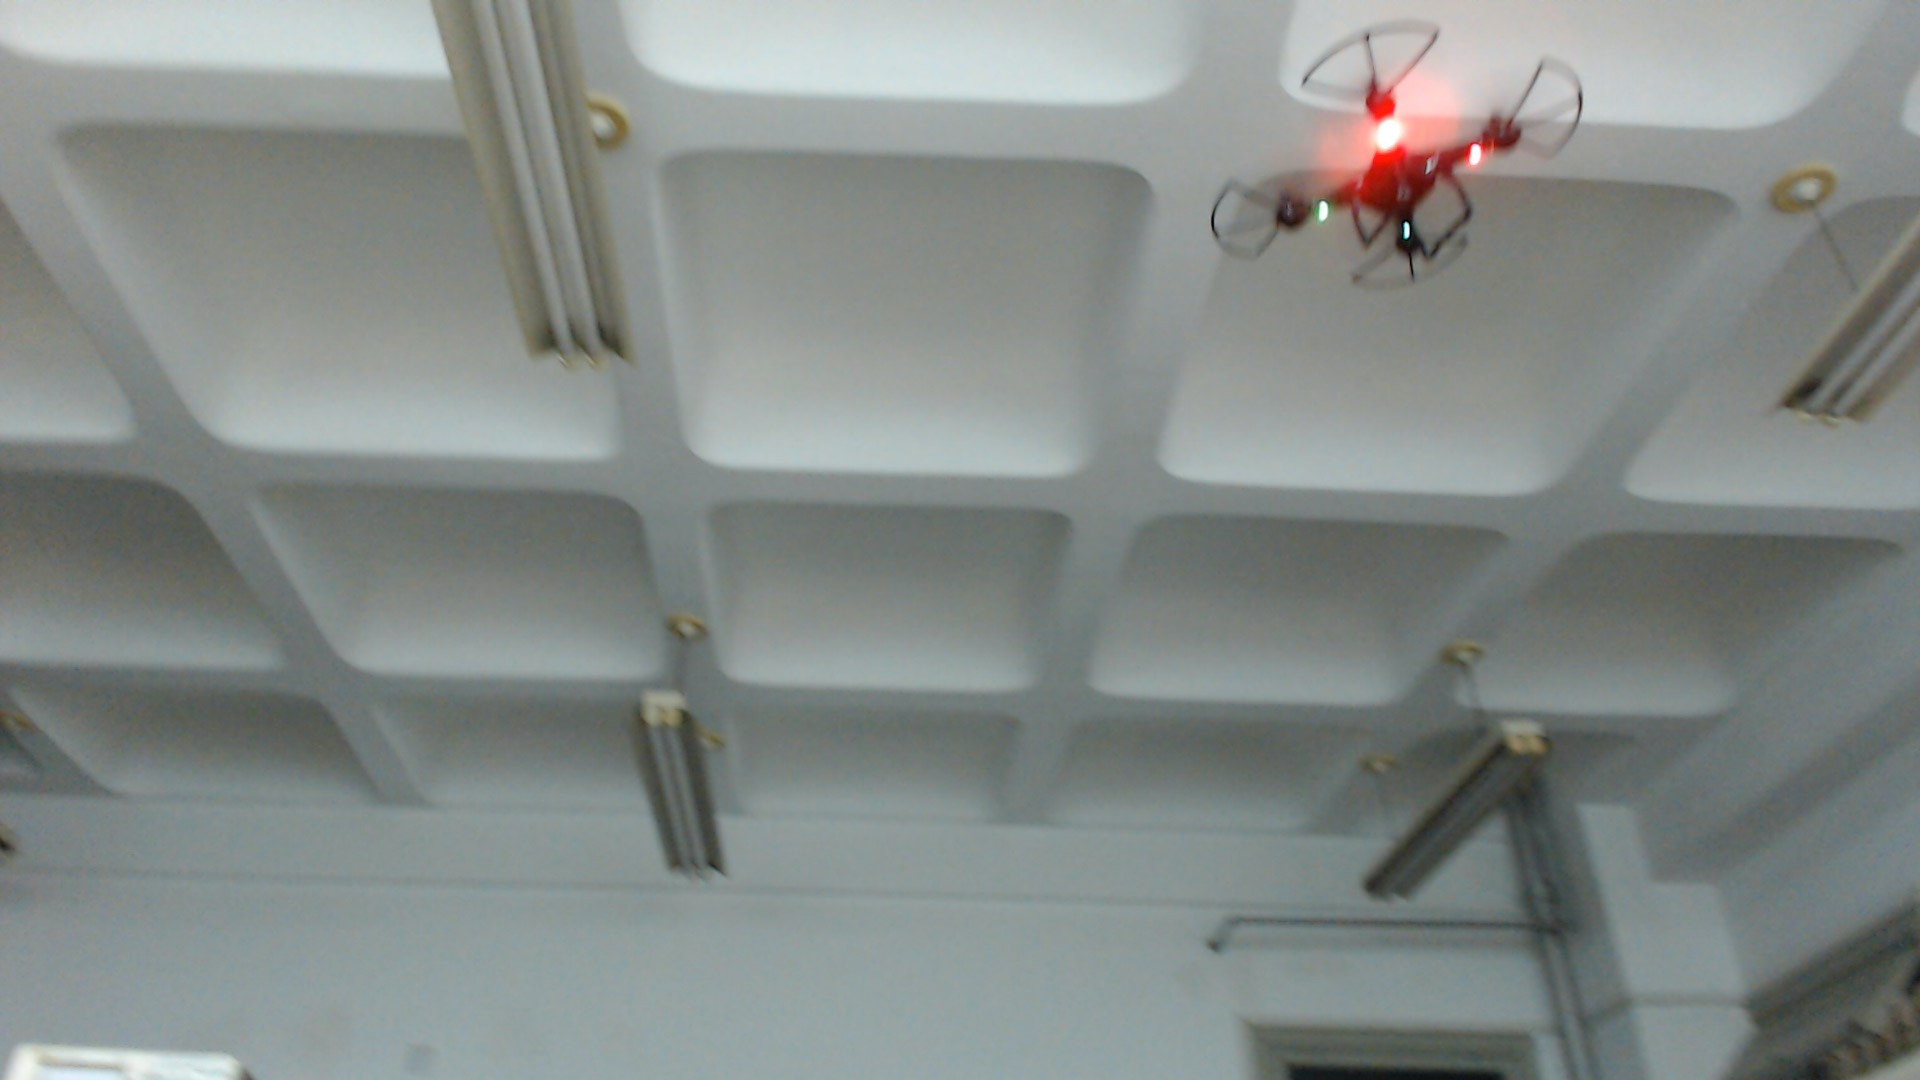drone: (1207, 25, 1592, 295)
